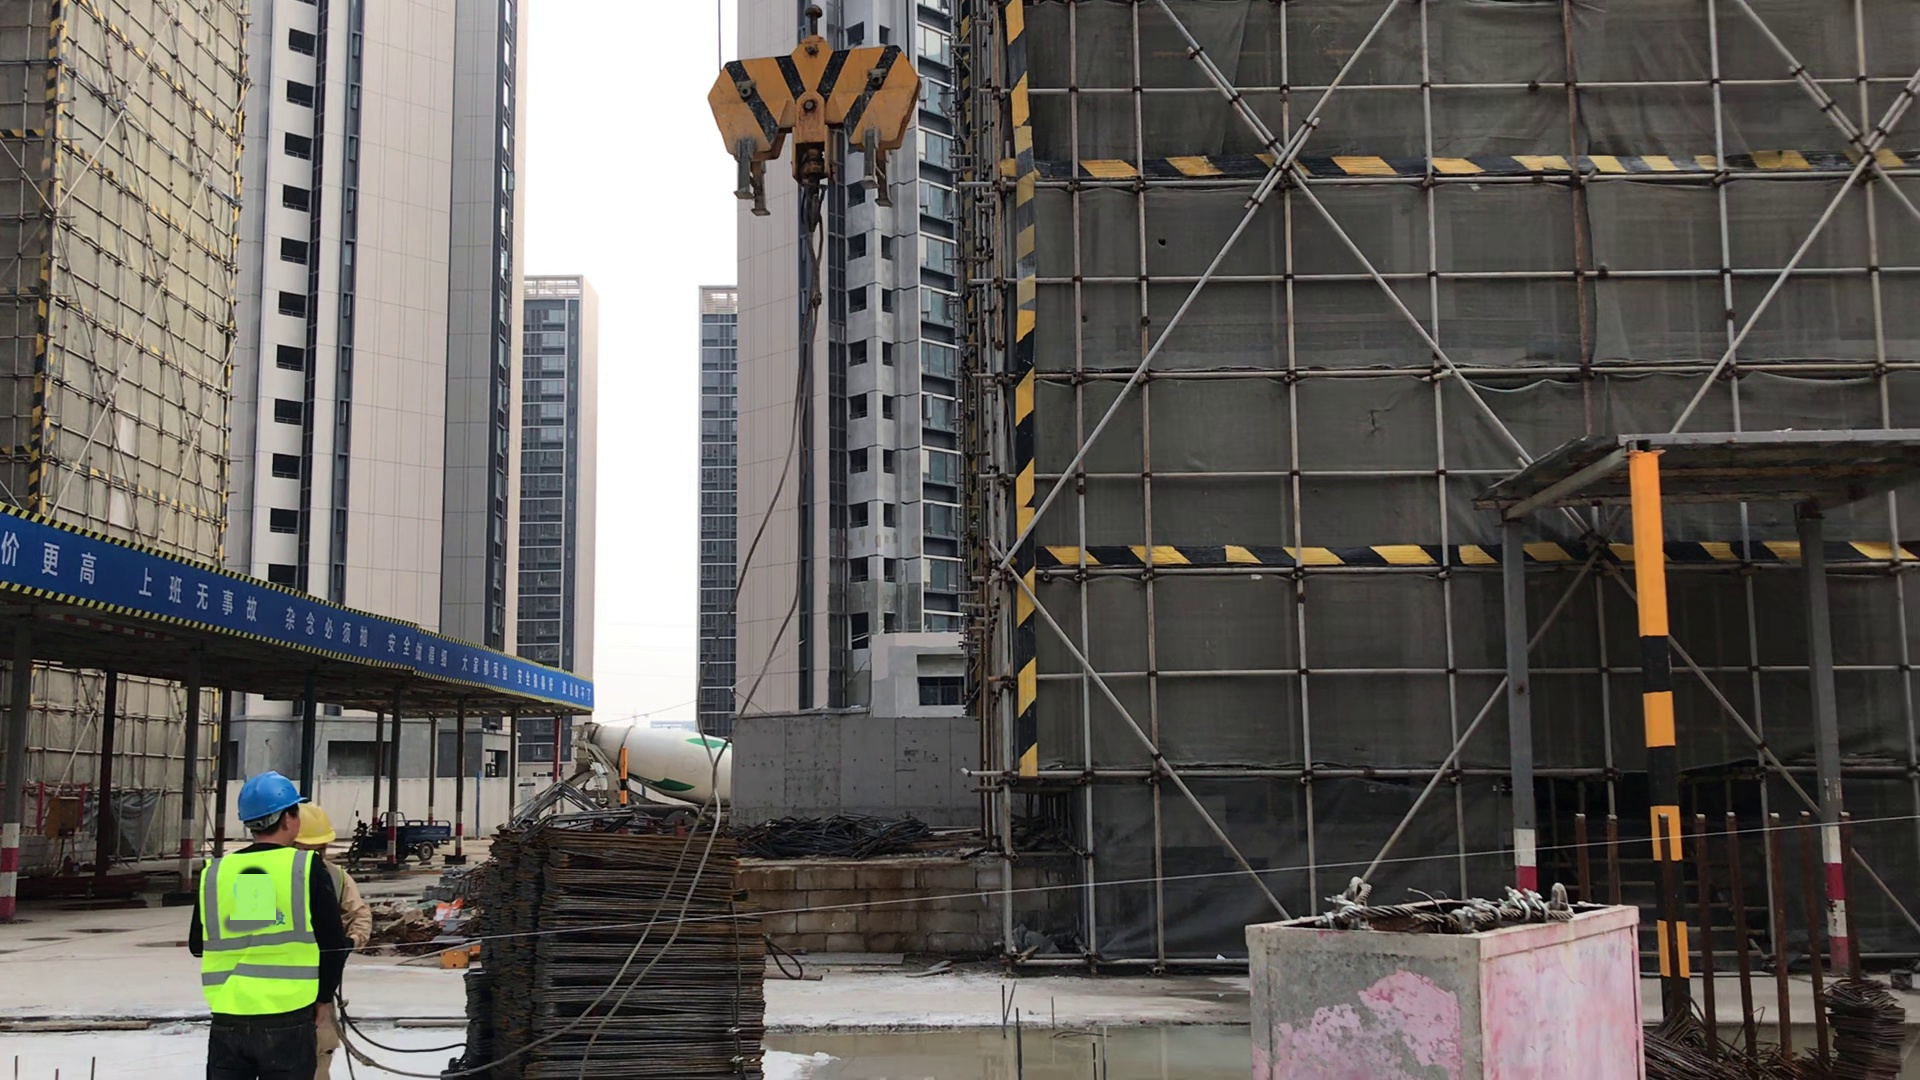helmet: (226, 769, 299, 826), (284, 801, 337, 854)
hook: (706, 31, 931, 196)
person: (185, 771, 343, 1080), (293, 804, 392, 1068)
slogan: (1, 513, 595, 711)
vest: (199, 854, 321, 1012)
